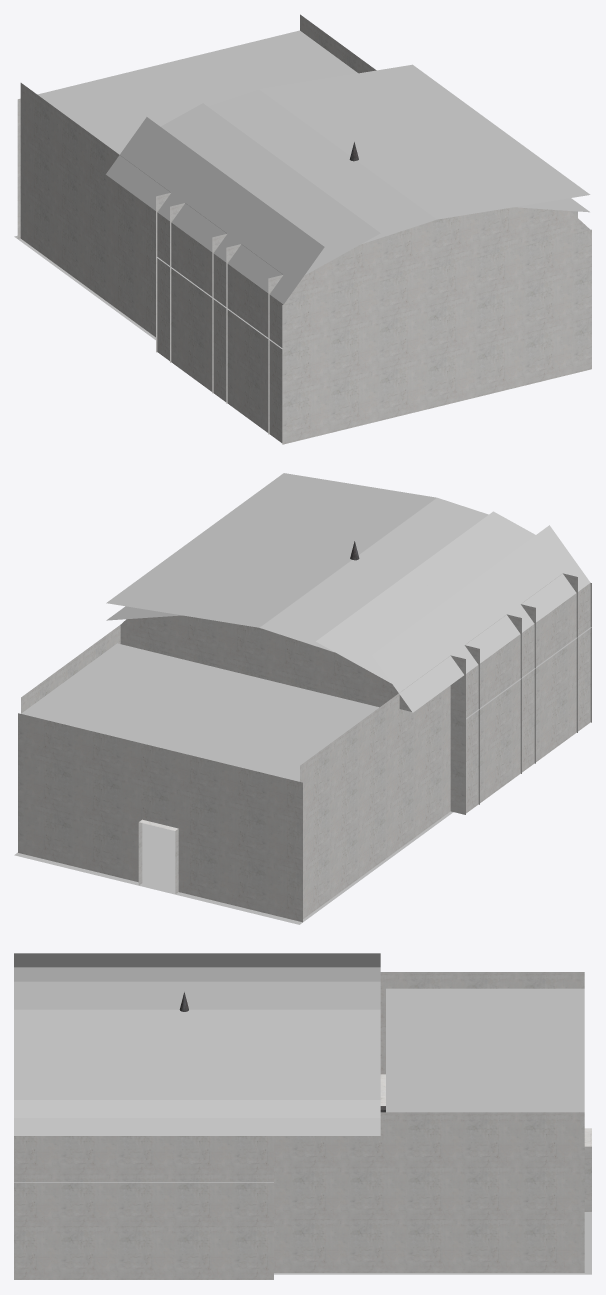
The model's file is LC_cont1_038.obj.
The picture shows the model from 3 angles, top to bottom: view 1: azimuth 30°, elevation 25°; view 2: azimuth 150°, elevation 25°; view 3: azimuth 270°, elevation 25°; orthographic projection. The views are drawn at different scales.
Parts seen in each view (by area): view 1: room038misc; view 2: room038misc; view 3: room038misc.
Boxes of the visible parts, x1,y1,x2,y2 form: room038misc: (14, 14, 591, 444); room038misc: (14, 473, 591, 924); room038misc: (14, 953, 591, 1279).
Size of the model in its own units: 408 by 266 by 640.
